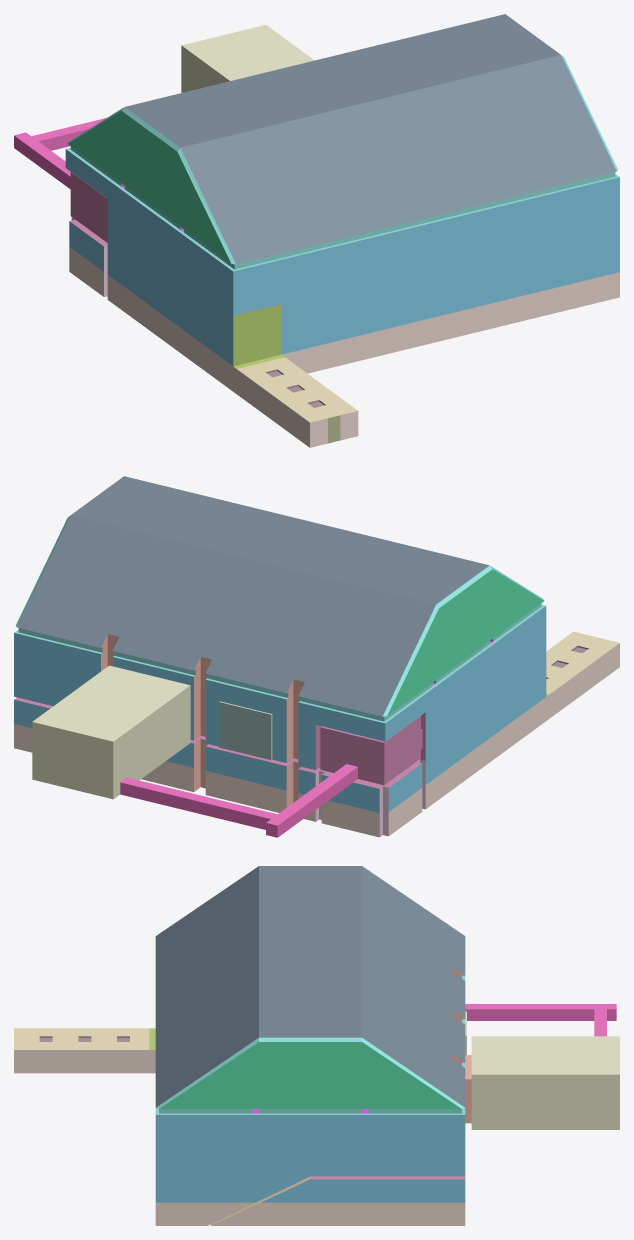
Rendered from warehouse2.fbx.
3 renders of one model, top to bottom at view 1: azimuth 30°, elevation 25°; view 2: azimuth 150°, elevation 25°; view 3: azimuth 270°, elevation 25°, orthographic. The views are drawn at different scales.
Visible parts, largest first — view 1: bsp_model_0; view 2: bsp_model_0; view 3: bsp_model_0.
Part boxes in pixels (left/top/right/bottom): bsp_model_0: left=14, top=14, right=619, bottom=447; bsp_model_0: left=14, top=476, right=619, bottom=837; bsp_model_0: left=14, top=866, right=619, bottom=1225.
Size of the model in its own units: 6400 by 3200 by 9400.
